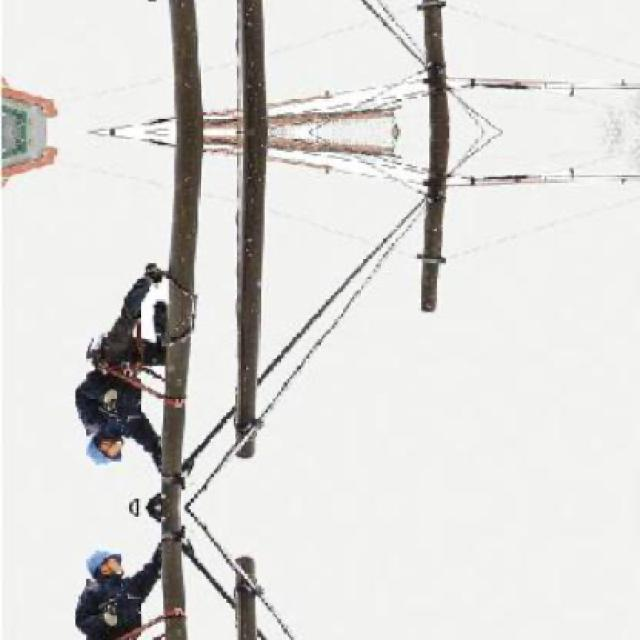con casco: (78, 430, 140, 474)
